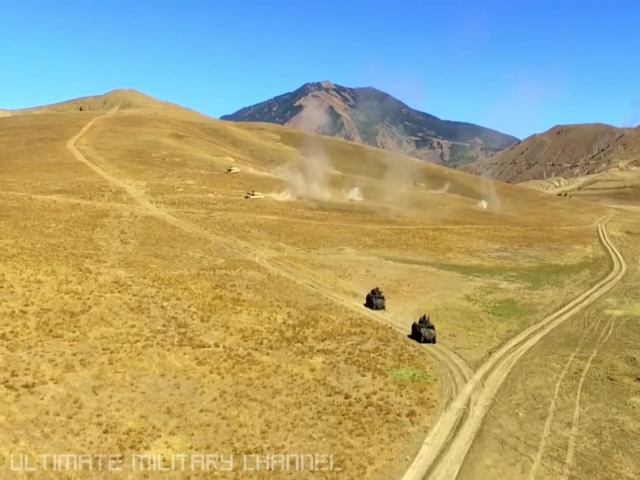vehicle: (412, 314, 439, 345), (366, 287, 387, 310)
